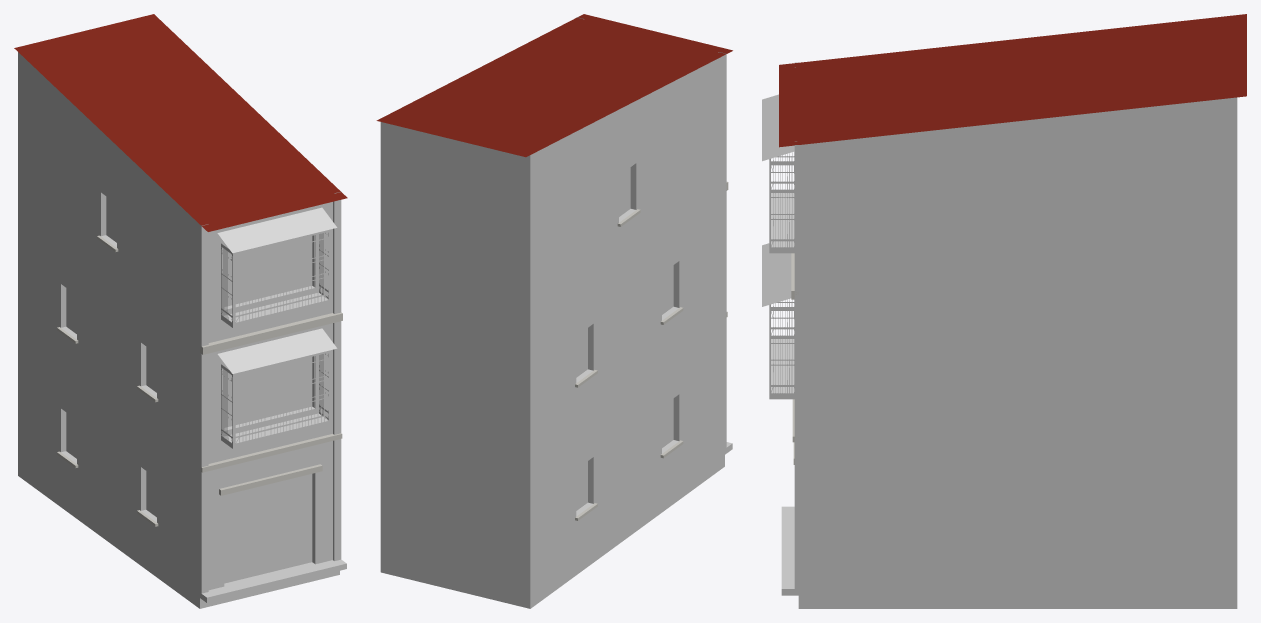
3 renders of one model, left to right at view 1: azimuth 30°, elevation 25°; view 2: azimuth 150°, elevation 25°; view 3: azimuth 270°, elevation 25°, orthographic. The views are drawn at different scales.
Visible parts, largest first — view 1: TH_D09_L_14_LOD0; view 2: TH_D09_L_14_LOD0; view 3: TH_D09_L_14_LOD0.
Boxes of the visible parts, x1,y1,x2,y2 form: TH_D09_L_14_LOD0: (14, 14, 347, 608); TH_D09_L_14_LOD0: (376, 14, 732, 608); TH_D09_L_14_LOD0: (762, 14, 1246, 608).
Size of what is drawn, in the model's own units: 4.08 by 11.6 by 9.95.
